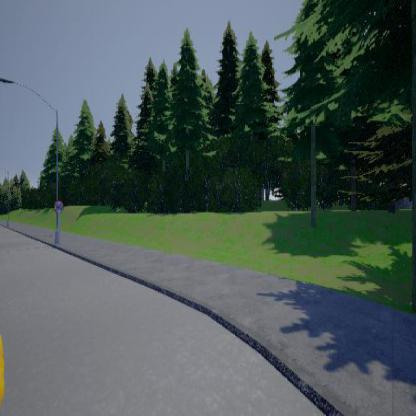traffic_sign_90: (53, 200, 63, 214)
